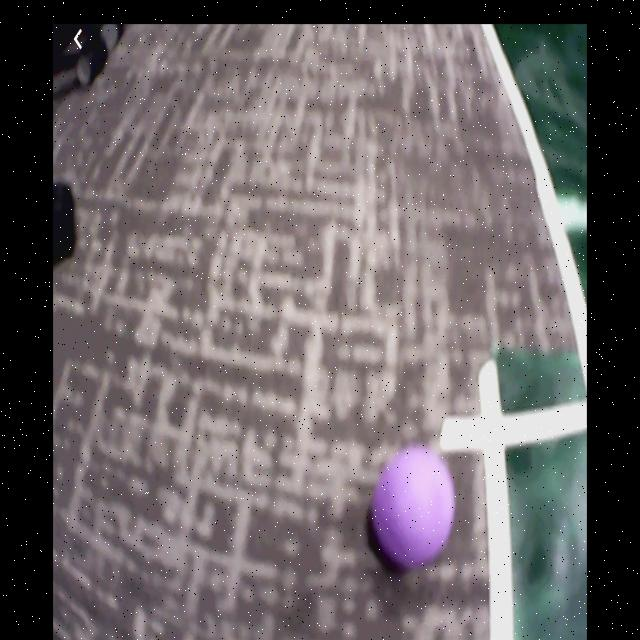ball: (367, 443, 456, 573)
